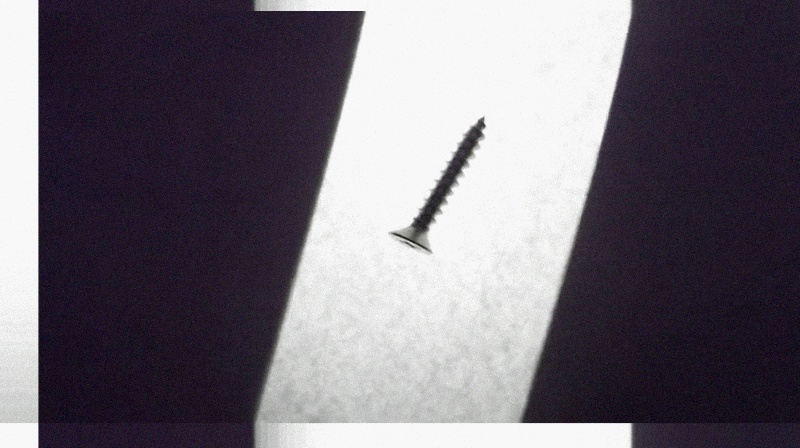S001: (384, 114, 489, 260)
